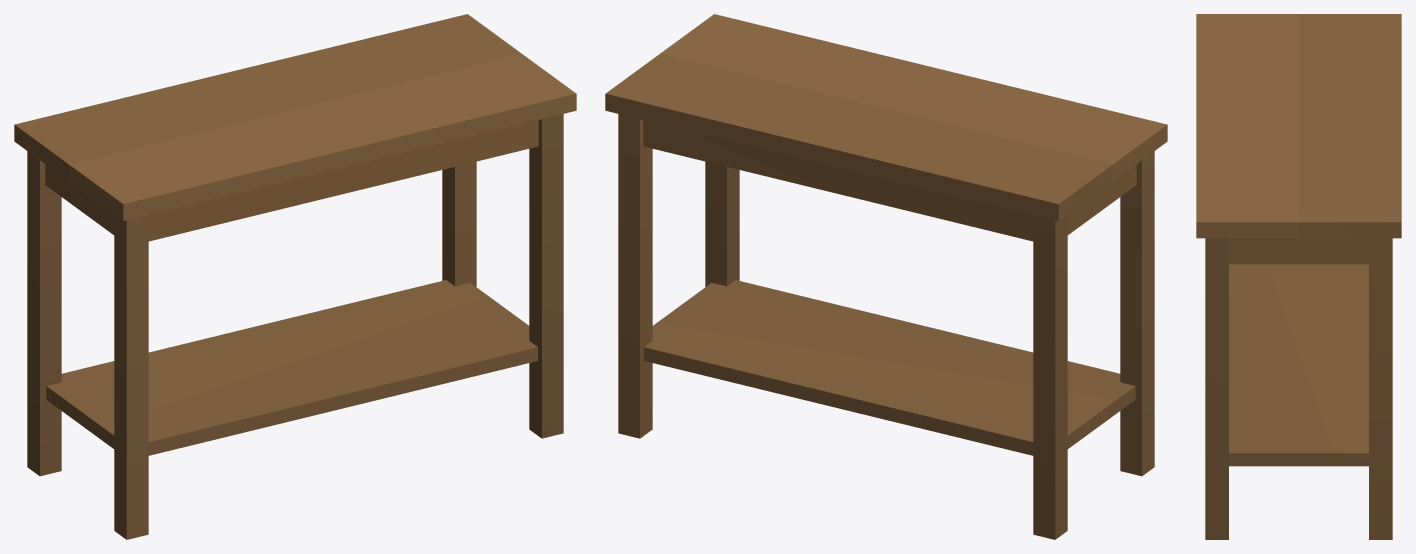
File: table.console.oak.glb
3 renders of one model, left to right at view 1: azimuth 30°, elevation 25°; view 2: azimuth 150°, elevation 25°; view 3: azimuth 270°, elevation 25°, orthographic. The views are drawn at different scales.
Parts seen in each view (by area): view 1: table_console_oak; view 2: table_console_oak; view 3: table_console_oak.
Part boxes in pixels (x1,y1,x2,y2): table_console_oak: (14,14,576,539); table_console_oak: (605,14,1167,539); table_console_oak: (1196,14,1401,539).
Size of what is drawn, in the model's own units: 0.834 by 0.6 by 0.347.
